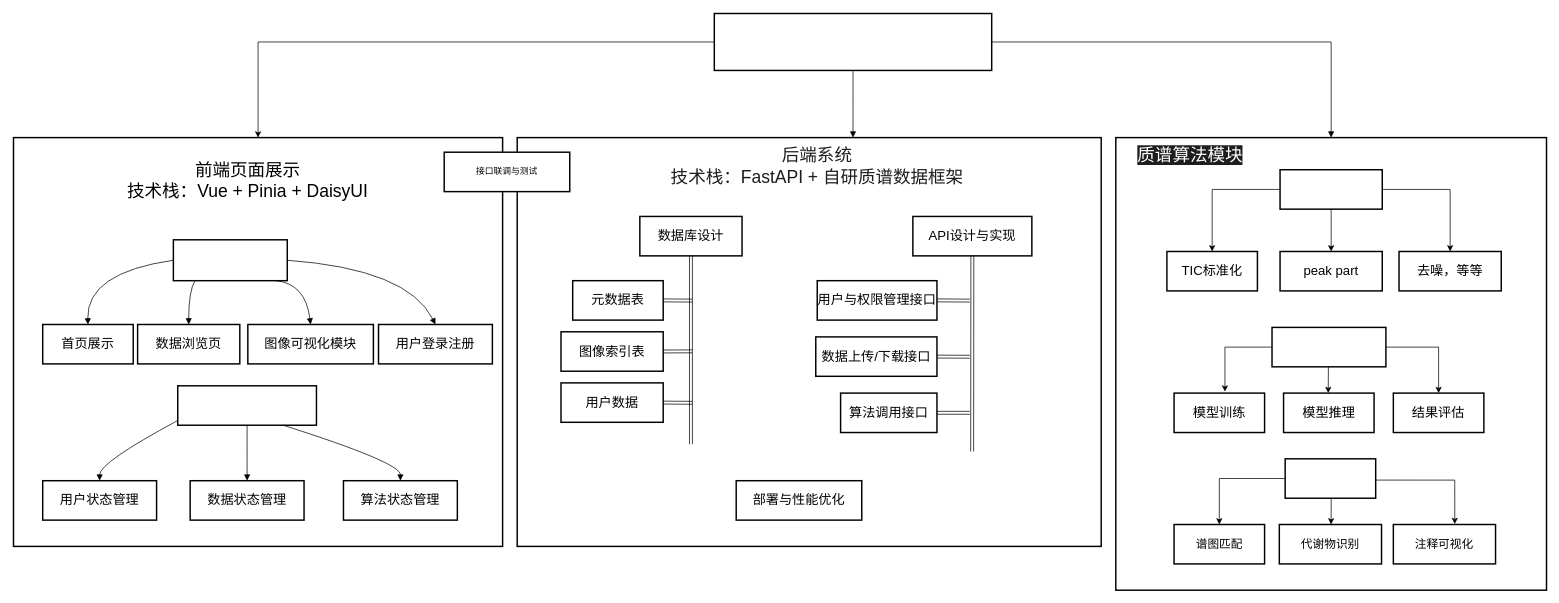
Image size: 1559x603. Some labels were removed from this diagram. The centre of each missing label's shape, as x and y in pixels:
"分子注释" goes at [1330,478].
"数据预处理" goes at [1331,189].
"状态管理（Pinia）" goes at [247,405].
"空间代谢组学数据库在线网站" goes at [852,41].
"超分辨率重建" goes at [1328,346].
"页面模块开发 Vue+DaisyUI" goes at [230,260].
